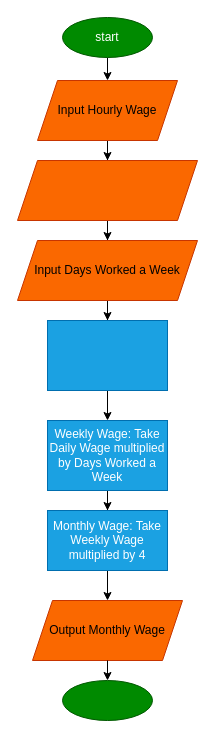
This 215x738 diagram has some shape labels left out. The shapes that lost their labels are listed below. From the top down, each one's box as (x1, y1, x2, y2) in pixels, then its label:
(16, 160, 198, 220): Input Hours Worked a day
(46, 320, 168, 390): Daily Wage: Take Hours Worked a day multiplied by Hourly Wage
(62, 680, 152, 720): stop
